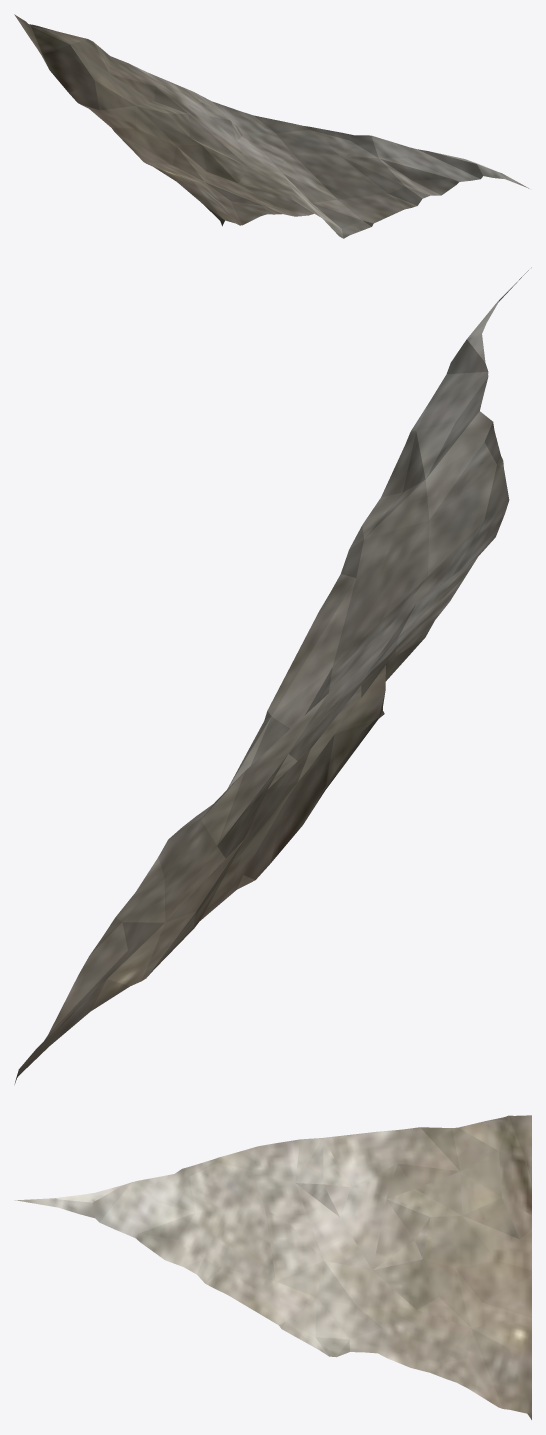
The picture shows the model from 3 angles, top to bottom: view 1: azimuth 30°, elevation 25°; view 2: azimuth 150°, elevation 25°; view 3: azimuth 270°, elevation 25°; orthographic projection. The views are drawn at different scales.
Bounding box in the file's own units: 0.6542 × 0.7905 × 1.68.
1 material, 1 textured.
